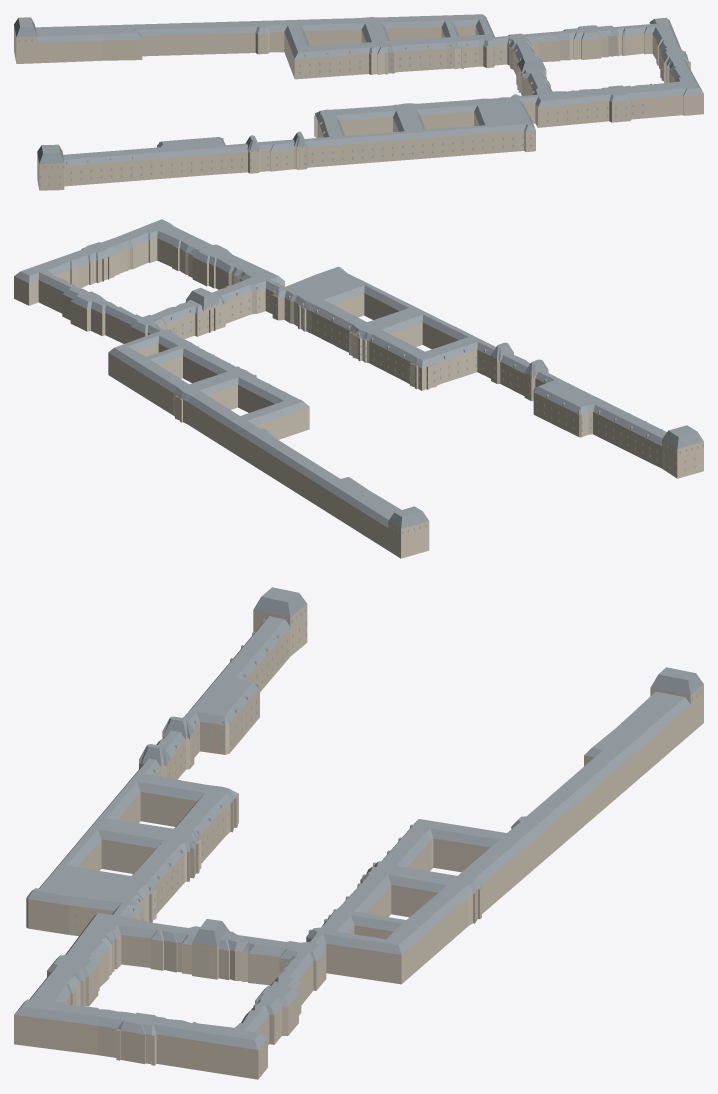
3 renders of one model, top to bottom at view 1: azimuth 30°, elevation 25°; view 2: azimuth 150°, elevation 25°; view 3: azimuth 270°, elevation 25°, orthographic. The views are drawn at different scales.
Visible parts, largest first — view 1: stone, roof, window; view 2: stone, roof, window; view 3: roof, stone, window.
Part boxes in pixels (<box>): stone: <box>14,23,703,190</box>; roof: <box>14,14,703,166</box>; window: <box>16,38,643,185</box>; stone: <box>14,238,703,558</box>; roof: <box>14,219,703,528</box>; window: <box>173,292,703,534</box>; roof: <box>14,587,703,1049</box>; stone: <box>14,604,703,1079</box>; window: <box>32,609,701,947</box>.
Size of the model in its own units: 711 by 38 by 466.
